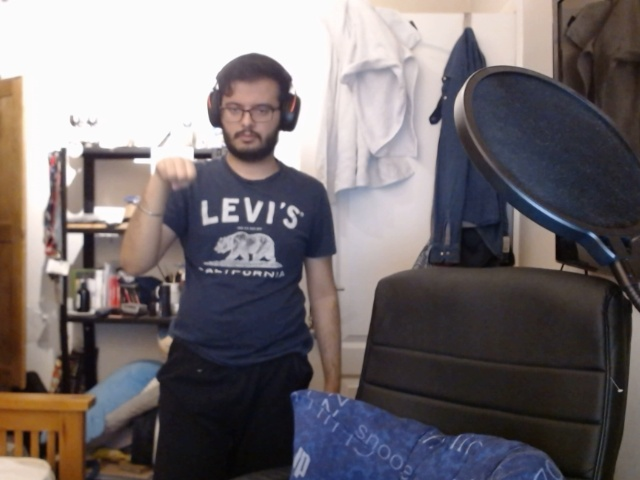Yes: (148, 154, 201, 194)
